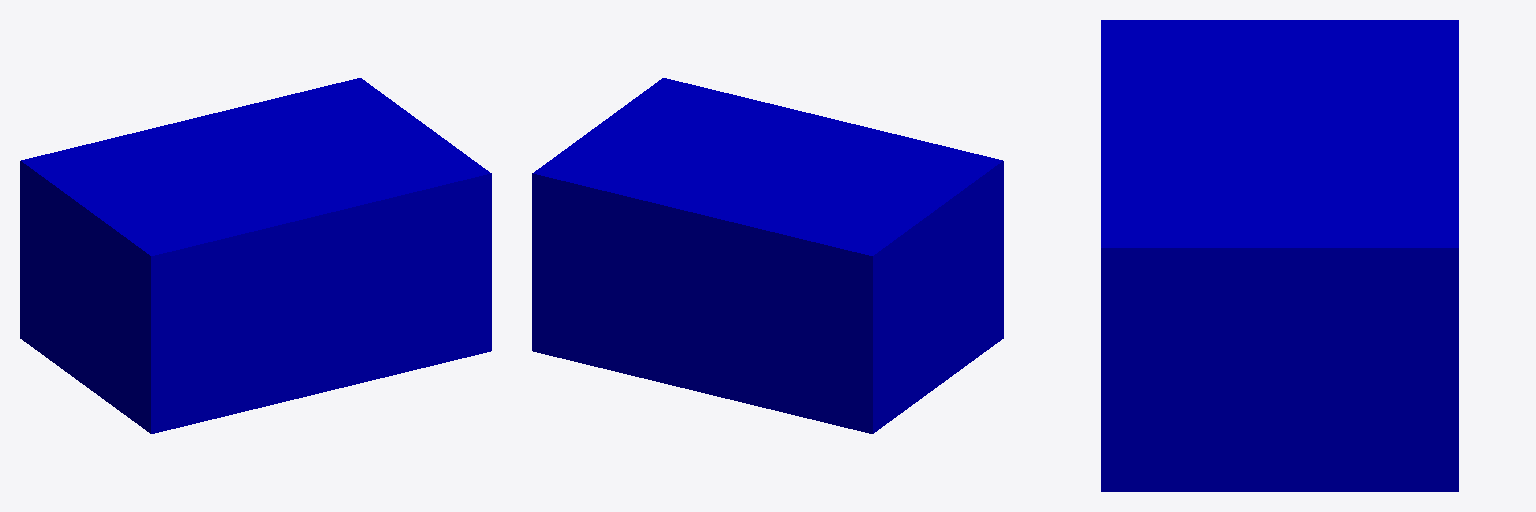
The robot description file, URDF, robot "template":
<?xml version="1.0" ?>
<robot name="template">
    
<material name="blue">
  <color rgba="0 0 0.8 1"/>
</material>
<material name="black">
  <color rgba="0 0 0 1"/>
</material>
<material name="white">
  <color rgba="1 1 1 1"/>
</material>
<material name="grey">
  <color rgba="0.5 0.5 0.5 1"/>
</material>
<material name="red">
  <color rgba="1.0 0.0 0.0 1"/>
</material>

<link name="base_link"/>

<link name="Waist">
  <inertial>
      <origin rpy="0 0 0" xyz="0.16 0.0 0.0"/>
      <mass value="69.0"/>
<!--      <origin rpy="0 0 0" xyz="0.108 0.0 0.0"/>-->
<!--      <mass value="55.0"/>-->
      <inertia ixx="1.0417" ixy="0.0" ixz="0.0" iyy="1.8750" iyz="0.0" izz="2.1667"/>
  </inertial>
  <visual>
      <origin rpy="0 0 0" xyz="0.0 0.0 0.0"/>
      <geometry name="Waist_visual">
        <box size="0.6 0.4 0.3"/>
      </geometry>
      <material name="blue"/>
  </visual>
  <collision>
      <origin rpy="0 0 0" xyz="0.0 0.0 0.0"/>
      <geometry name="Waist_collision">
        <box size="0.6 0.4 0.3"/>
      </geometry>
  </collision>
</link>

<joint name="base_joint" type="fixed">
    <parent link="base_link"/>
    <child link="Waist"/>
    <origin rpy="0 0 0" xyz="0 0 0"/>
</joint>

<link name="world"/>

<joint name="reference" type="floating">
    <parent link="world"/>
<child link="base_link"/>
</joint>

<!-- CONTACT LINKS -->
<link name="Contact1_0"/>
<link name="Contact1_1"/>
<link name="Contact1">
  <inertial>
      <origin rpy="0 0 0" xyz="0.0 0.0 0.0"/>
      <mass value="10.0"/>
      <inertia ixx="0.04" ixy="0.0" ixz="0.0" iyy="0.04" iyz="0.0" izz="0.04"/>
  </inertial>
  <visual>
      <origin rpy="0 0 0" xyz="0.0 0.0 0.0"/>
      <geometry name="Contact1_visual">
        <sphere radius="0.1"/>
      </geometry>
      <material name="white"/>
  </visual>
  <collision>
      <origin rpy="0 0 0" xyz="0.0 0.0 0.0"/>
      <geometry name="Contact1_collision">
        <sphere radius="0.1"/>
      </geometry>
  </collision>
</link>

<link name="Contact2_0"/>
<link name="Contact2_1"/>
<link name="Contact2">
  <inertial>
      <origin rpy="0 0 0" xyz="0.0 0.0 0.0"/>
      <mass value="10.0"/>
      <inertia ixx="0.04" ixy="0.0" ixz="0.0" iyy="0.04" iyz="0.0" izz="0.04"/>
  </inertial>
  <visual>
      <origin rpy="0 0 0" xyz="0.0 0.0 0.0"/>
      <geometry name="contact_link2_visual">
         <sphere radius="0.1"/>
      </geometry>
      <material name="white"/>
  </visual>
  <collision>
      <origin rpy="0 0 0" xyz="0.0 0.0 0.0"/>
      <geometry name="contact_link2_collision">
        <sphere radius="0.1"/>
      </geometry>
  </collision>
</link>

<link name="Contact3_0"/>
<link name="Contact3_1"/>
<link name="Contact3">
  <inertial>
      <origin rpy="0 0 0" xyz="0.0 0.0 0.0"/>
      <mass value="10.0"/>
      <inertia ixx="0.04" ixy="0.0" ixz="0.0" iyy="0.04" iyz="0.0" izz="0.04"/>
  </inertial>
  <visual>
      <origin rpy="0 0 0" xyz="0.0 0.0 0.0"/>
      <geometry name="Contact3_visual">
        <sphere radius="0.1"/>
      </geometry>
      <material name="white"/>
  </visual>
  <collision>
      <origin rpy="0 0 0" xyz="0.0 0.0 0.0"/>
      <geometry name="Contact3_collision">
        <sphere radius="0.1"/>
      </geometry>
  </collision>
</link>

<link name="Contact4_0"/>
<link name="Contact4_1"/>
<link name="Contact4">
  <inertial>
      <origin rpy="0 0 0" xyz="0.0 0.0 0.0"/>
      <mass value="10.0"/>
      <inertia ixx="0.04" ixy="0.0" ixz="0.0" iyy="0.04" iyz="0.0" izz="0.04"/>
  </inertial>
  <visual>
      <origin rpy="0 0 0" xyz="0.0 0.0 0.0"/>
      <geometry name="Contact4_visual">
        <sphere radius="0.1"/>
      </geometry>
      <material name="white"/>
  </visual>
  <collision>
      <origin rpy="0 0 0" xyz="0.0 0.0 0.0"/>
      <geometry name="Contact4_collision">
        <sphere radius="0.1"/>
      </geometry>
  </collision>
</link>

<!-- JOINTS -->
<joint name="Contact1_x" type="prismatic">
    <axis xyz="1 0 0"/>
    <parent link="Waist"/>
    <child link="Contact1_0"/>
    <origin rpy="0 0 0" xyz="0 0 0"/>
    <limit effort="0" lower="-1" upper="1" velocity="1"/>
</joint>
<joint name="Contact1_y" type="prismatic">
    <axis xyz="0 1 0"/>
    <parent link="Contact1_0"/>
    <child link="Contact1_1"/>
    <origin rpy="0 0 0" xyz="0 0 0"/>
    <limit effort="0" lower="-1" upper="1" velocity="1"/>
</joint>
<joint name="Contact1_z" type="prismatic">
    <axis xyz="0 0 1"/>
    <parent link="Contact1_1"/>
    <child link="Contact1"/>
    <origin rpy="0 0 0" xyz="0 0 0"/>
    <limit effort="0" lower="-1" upper="1" velocity="1"/>
</joint>

<joint name="Contact2_x" type="prismatic">
    <axis xyz="1 0 0"/>
    <parent link="Waist"/>
    <child link="Contact2_0"/>
    <origin rpy="0 0 0" xyz="0 0 0"/>
    <limit effort="0" lower="-1" upper="1" velocity="1"/>
</joint>
<joint name="Contact2_y" type="prismatic">
    <axis xyz="0 1 0"/>
    <parent link="Contact2_0"/>
    <child link="Contact2_1"/>
    <origin rpy="0 0 0" xyz="0 0 0"/>
    <limit effort="0" lower="-1" upper="1" velocity="1"/>
</joint>
<joint name="Contact2_z" type="prismatic">
    <axis xyz="0 0 1"/>
    <parent link="Contact2_1"/>
    <child link="Contact2"/>
    <origin rpy="0 0 0" xyz="0 0 0"/>
    <limit effort="0" lower="-1" upper="1" velocity="1"/>
</joint>

<joint name="Contact3_x" type="prismatic">
    <axis xyz="1 0 0"/>
    <parent link="Waist"/>
    <child link="Contact3_0"/>
    <origin rpy="0 0 0" xyz="0 0 0"/>
    <limit effort="0" lower="-1" upper="1" velocity="1"/>
</joint>
<joint name="Contact3_y" type="prismatic">
    <axis xyz="0 1 0"/>
    <parent link="Contact3_0"/>
    <child link="Contact3_1"/>
    <origin rpy="0 0 0" xyz="0 0 0"/>
    <limit effort="0" lower="-1" upper="1" velocity="1"/>
</joint>
<joint name="Contact3_z" type="prismatic">
    <axis xyz="0 0 1"/>
    <parent link="Contact3_1"/>
    <child link="Contact3"/>
    <origin rpy="0 0 0" xyz="0 0 0"/>
    <limit effort="0" lower="-1" upper="1" velocity="1"/>
</joint>

<joint name="Contact4_x" type="prismatic">
    <axis xyz="1 0 0"/>
    <parent link="Waist"/>
    <child link="Contact4_0"/>
    <origin rpy="0 0 0" xyz="0 0 0"/>
    <limit effort="0" lower="-1" upper="1" velocity="1"/>
</joint>
<joint name="Contact4_y" type="prismatic">
    <axis xyz="0 1 0"/>
    <parent link="Contact4_0"/>
    <child link="Contact4_1"/>
    <origin rpy="0 0 0" xyz="0 0 0"/>
    <limit effort="0" lower="-1" upper="1" velocity="1"/>
</joint>
<joint name="Contact4_z" type="prismatic">
    <axis xyz="0 0 1"/>
    <parent link="Contact4_1"/>
    <child link="Contact4"/>
    <origin rpy="0 0 0" xyz="0 0 0"/>
    <limit effort="0" lower="-1" upper="1" velocity="1"/>
</joint>

</robot>

--- Render facts (derived) ---
Views: 3 orthographic renders of the robot side by side, from view 1: azimuth 30°, elevation 25°; view 2: azimuth 150°, elevation 25°; view 3: azimuth 270°, elevation 25°.
Robot: template — 15 links, 14 joints (12 prismatic, 1 fixed, 1 floating); root link world; default pose: every joint at zero.
Visible links, largest first — view 1: Waist; view 2: Waist; view 3: Waist.
Boxes of the visible links, left/top/right/bottom form: Waist: left=20, top=78, right=491, bottom=433; Waist: left=532, top=78, right=1003, bottom=433; Waist: left=1101, top=20, right=1458, bottom=491.
Bounding box of the posed robot: 0.6 × 0.4 × 0.3 m (x, y, z).
Geometry: primitives only (box / cylinder / sphere), no mesh files.